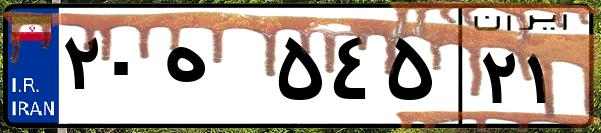0: (110, 28, 158, 98)
1: (525, 38, 570, 115)
2: (57, 26, 110, 100), (475, 38, 525, 113)
4: (330, 28, 385, 110)
5: (270, 28, 330, 110), (385, 28, 445, 110)
ه: (158, 20, 270, 120)
